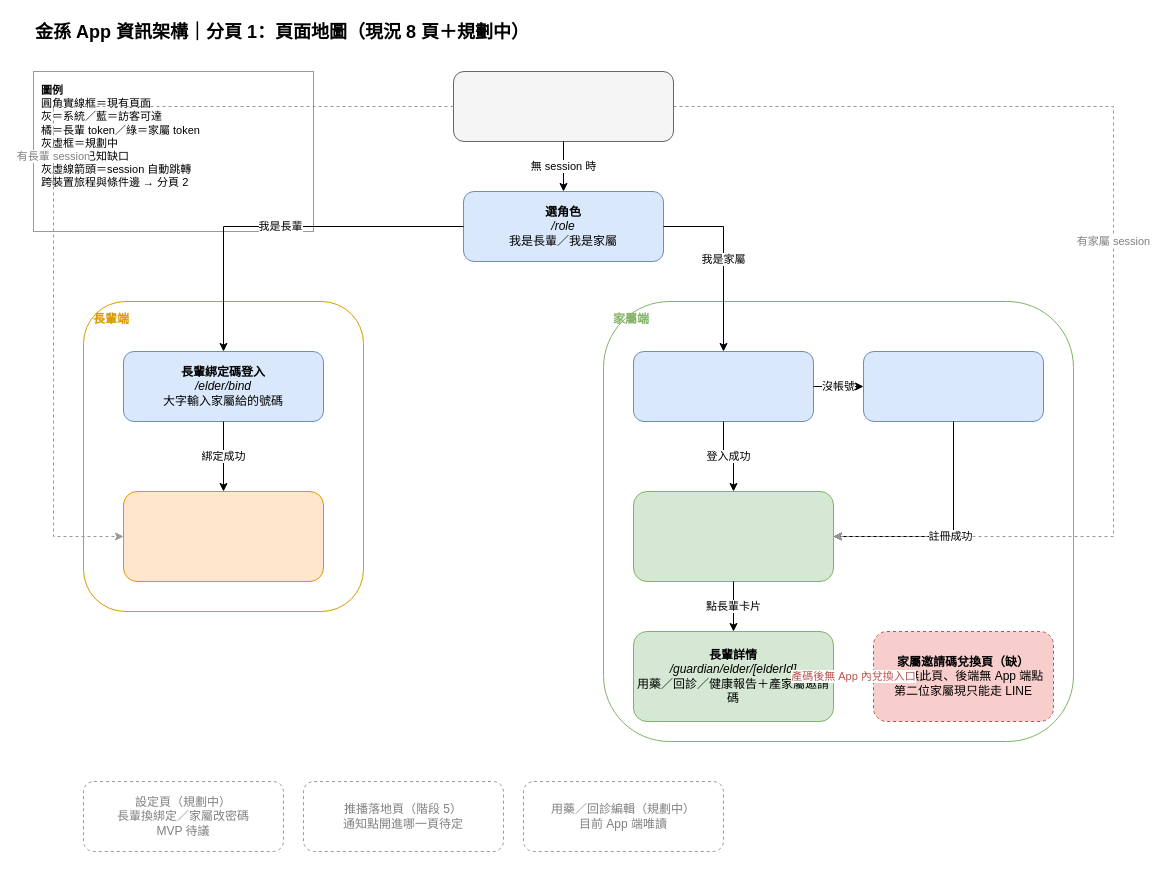
Image size: 1167x869. Some labels were removed from this diagram. The shapes that lost their labels are listed below. From the top down, each one's centre as x and y in pixels, then its label:
the point at 563,106: 入口導向（無畫面） / 讀取儲存的 session 自動跳轉
the point at 723,386: 家屬登入 /guardian/login Email＋密碼
the point at 953,386: 家屬註冊 /guardian/register
the point at 223,536: 對講機 /elder/talk 虛擬形象＋押住說話＋回覆大字 （內部狀態 → 分頁 3）
the point at 733,536: 家屬主畫面 /guardian/home 長輩列表＋新增長輩（顯示綁定碼）＋登出
